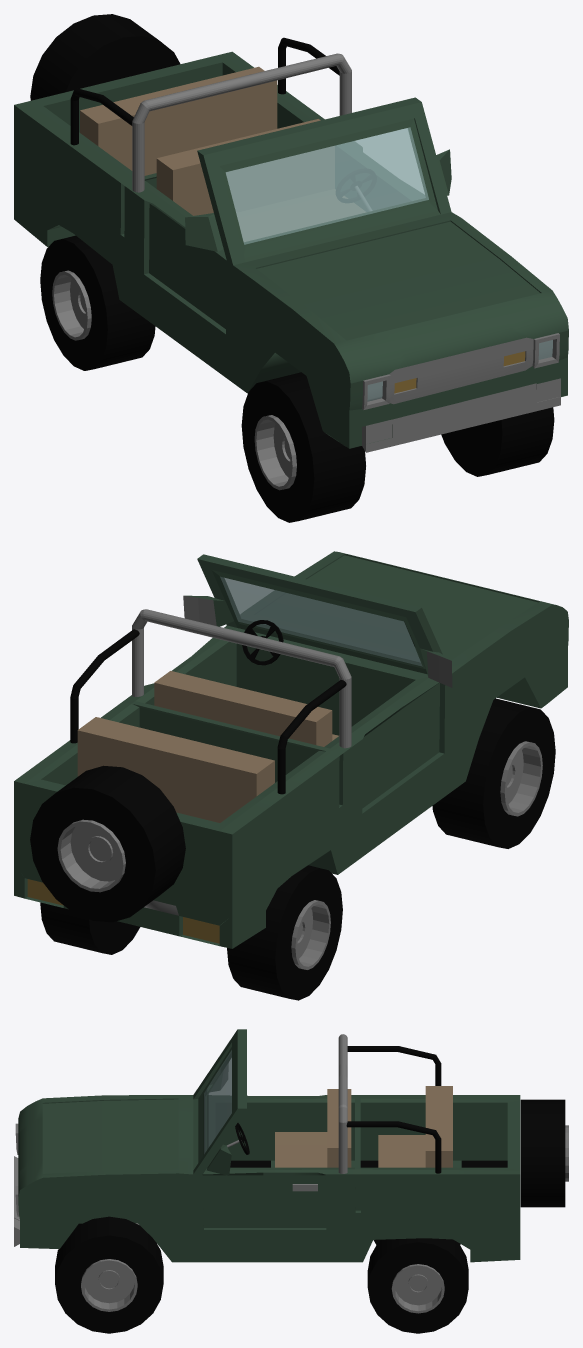
File: Bronco.fbx
3 renders of one model, top to bottom at view 1: azimuth 30°, elevation 25°; view 2: azimuth 150°, elevation 25°; view 3: azimuth 270°, elevation 25°, orthographic. The views are drawn at different scales.
Parts seen in each view (by area): view 1: pCube1, pCylinder18, pCylinder17, pCylinder19, pCylinder8, pCylinder11, pCylinder12, pCylinder2, pCylinder1; view 2: pCube1, pCylinder19, pCylinder18, pCylinder17, pCylinder16, pCylinder11, pCylinder12, pCylinder2, pCylinder1, pCylinder23; view 3: pCube1, pCylinder8, pCylinder16, pCylinder19, pCylinder12, pCylinder1, pCylinder2.
Boxes of the visible parts, x1,y1,x2,y2 form: pCube1: (14,51,568,452); pCylinder18: (241,372,365,522); pCylinder17: (40,235,155,370); pCylinder19: (30,14,180,100); pCylinder8: (441,407,554,476); pCylinder11: (132,78,239,192); pCylinder12: (237,53,351,115); pCylinder2: (70,88,133,145); pCylinder1: (278,37,339,94); pCube1: (14,551,568,948); pCylinder19: (30,765,185,922); pCylinder18: (432,698,555,848); pCylinder17: (227,865,342,1000); pCylinder16: (40,902,140,954); pCylinder11: (243,634,351,748); pCylinder12: (132,609,247,696); pCylinder2: (277,680,346,794); pCylinder1: (70,629,139,743); pCylinder23: (242,620,283,665); pCube1: (14,1029,520,1262); pCylinder8: (55,1216,163,1333); pCylinder16: (367,1238,468,1333); pCylinder19: (520,1099,568,1207); pCylinder12: (338,1067,347,1173); pCylinder1: (346,1121,441,1173); pCylinder2: (347,1046,441,1085).
Size of the model in its own units: 3.43 by 3.66 by 8.29.
